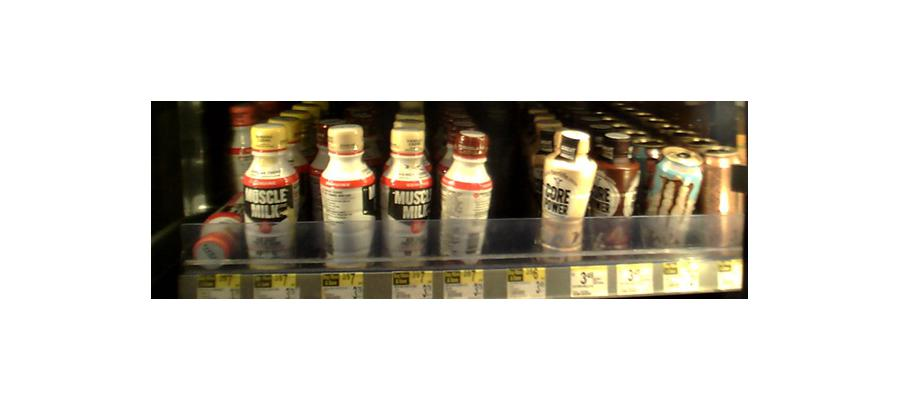bottle: (241, 126, 301, 263), (316, 125, 374, 265), (537, 126, 598, 255), (438, 128, 493, 265), (379, 121, 432, 262), (643, 142, 702, 252), (702, 146, 743, 254)
